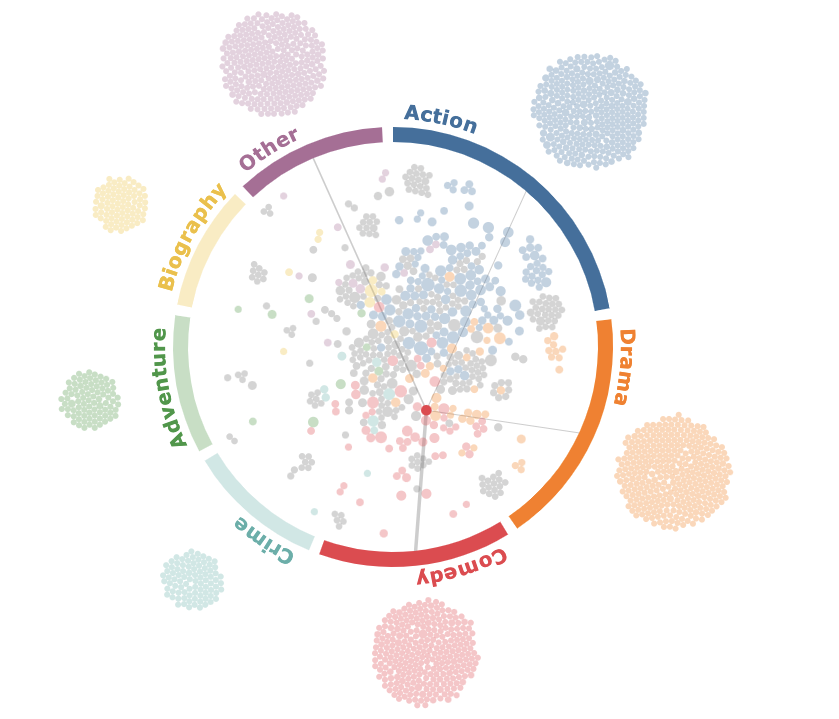

What the dashboard file says about the page in this screenshot:
{"tool":"tableau","page":{"name":"Primitive Analysis","canvas":[1000,1000],"units":"permille","ordinal":0},"visuals":[{"type":"worksheet","title":"Selective Visualization","mark":"Automatic","rows":["Calculation_3797027097978310658"],"cols":["Calculation_3797027097977212929"],"box":[5.9,9.2,870.8,981.5]},{"type":"legend","title":"Selective Visualization","param":"[federated.1372bju0tdke0a1f6kdw215r5f11].[none:General_Position:nk]","box":[876.7,9.2,117.5,99.4]},{"type":"parameter","param":"[Parameters].[Parameter 1]","box":[876.7,108.7,117.5,60.1]}]}

Visuals, with their boxes on the dashboard's canvas, which has no fixed pixel size, in thousandths of its width and height (x1, y1, x2, y2). These are canvas units, not pixel positions in the 839x719 screenshot, which may show the page scaled, cropped or inside an application window:
"Selective Visualization" worksheet: bbox(6, 9, 877, 991)
"Selective Visualization" legend: bbox(877, 9, 994, 109)
parameter: bbox(877, 109, 994, 169)
